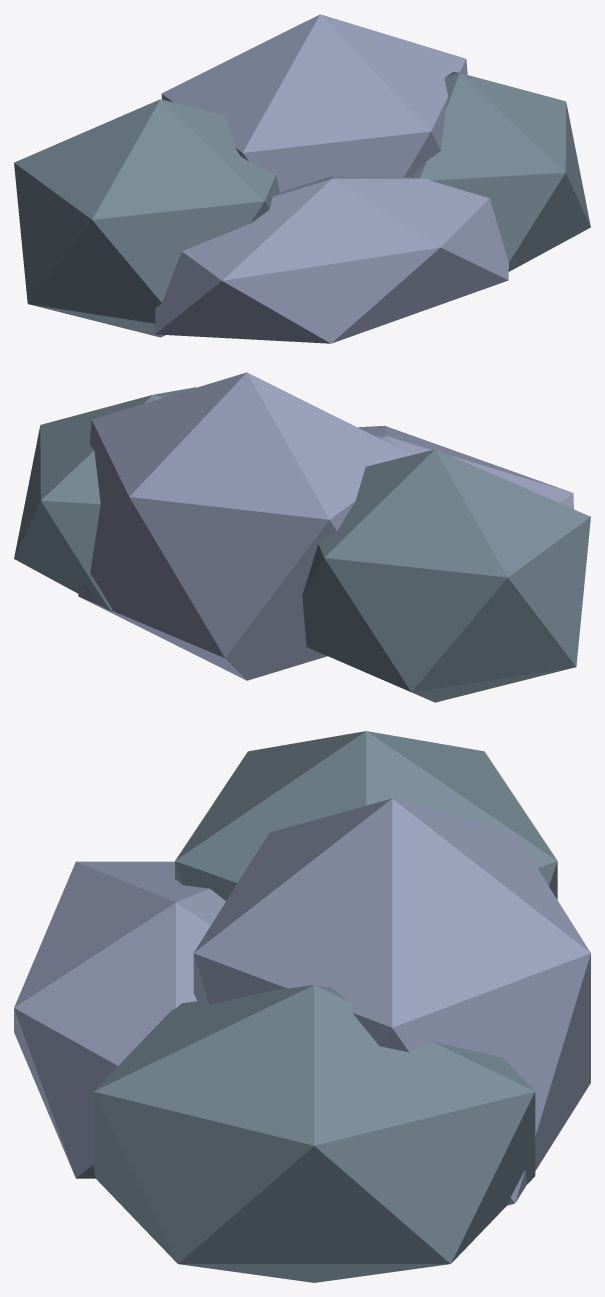
Rendered from vaisgard_penascos_r2.glb.
3 views of the same model, one above another, from view 1: azimuth 30°, elevation 25°; view 2: azimuth 150°, elevation 25°; view 3: azimuth 270°, elevation 25° (orthographic). The views are drawn at different scales.
Parts seen in each view (by area): view 1: Jagged granite boulder.003, Jagged granite boulder, Jagged granite boulder.001, Jagged granite boulder.002; view 2: Jagged granite boulder.001, Jagged granite boulder, Jagged granite boulder.002, Jagged granite boulder.003; view 3: Jagged granite boulder.002, Jagged granite boulder.001, Jagged granite boulder.003, Jagged granite boulder.
Boxes of the visible parts, x1,y1,x2,y2 form: Jagged granite boulder.003: (155, 176, 508, 343); Jagged granite boulder: (14, 99, 279, 337); Jagged granite boulder.001: (161, 14, 467, 192); Jagged granite boulder.002: (412, 71, 590, 271); Jagged granite boulder.001: (78, 372, 411, 680); Jagged granite boulder: (302, 449, 590, 702); Jagged granite boulder.002: (14, 387, 196, 611); Jagged granite boulder.003: (358, 425, 573, 509); Jagged granite boulder.002: (93, 985, 535, 1282); Jagged granite boulder.001: (193, 798, 590, 1205); Jagged granite boulder.003: (14, 861, 225, 1178); Jagged granite boulder: (175, 731, 557, 900).
Bounding box in the file's own units: 5.26 × 2.8 × 3.33.
